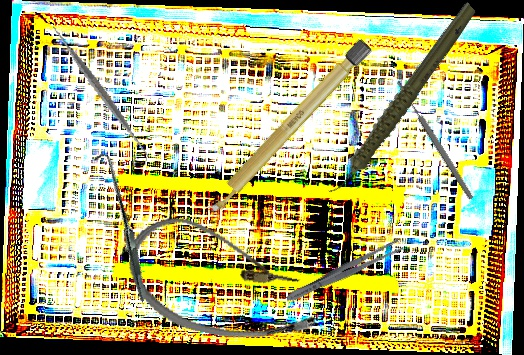Cannula: (118, 209, 331, 355)
Dressing Forceps: (283, 236, 405, 307)
Handpiece: (291, 0, 509, 198)
Hook Surgical: (47, 151, 194, 303)
Scalpel Handle: (202, 37, 374, 219)
Spatula Surgical: (26, 17, 175, 166)
Surgical Spoon: (395, 79, 475, 201)
